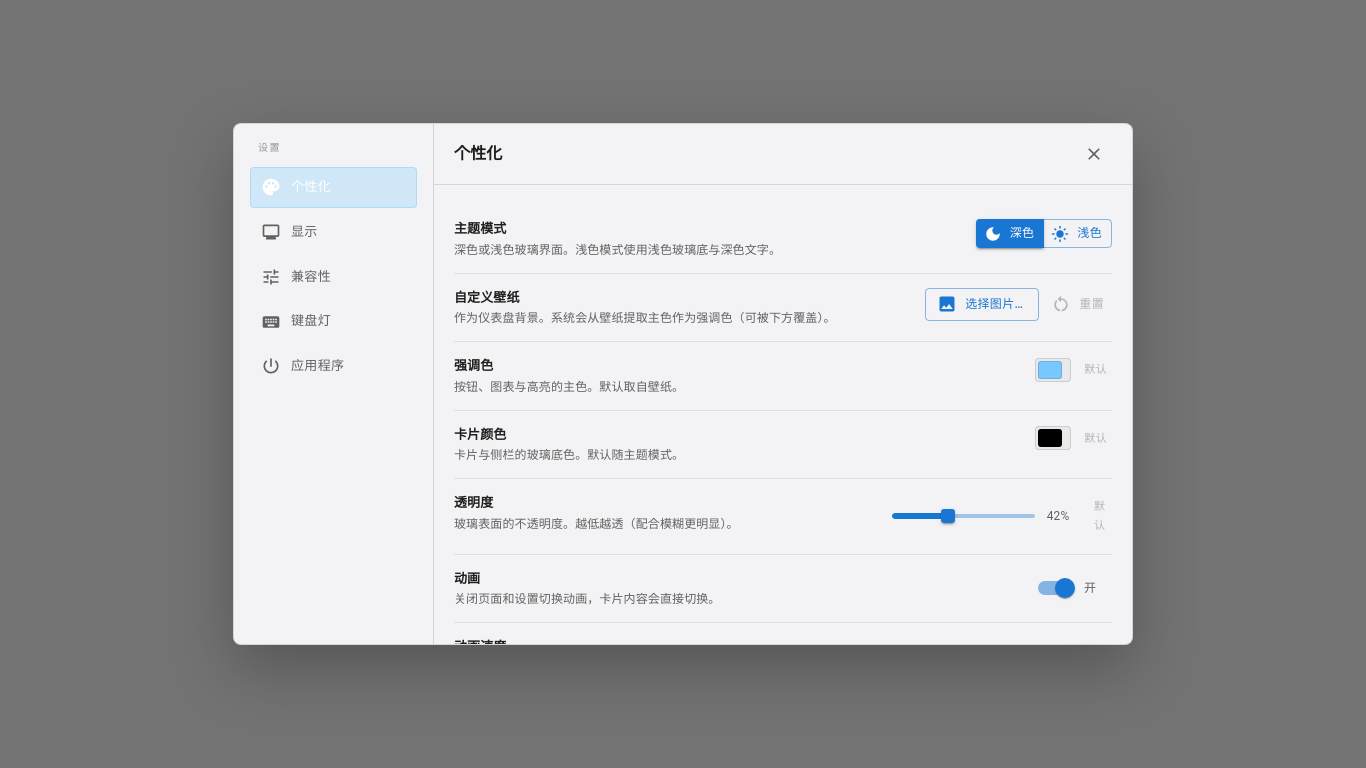
Test case: SettingsDialog › opens the keyboard section and reports an unavailable controller
The image size is (1366, 768).
Click the button "键盘灯".
click(334, 322)  # box [250,301,417,342]
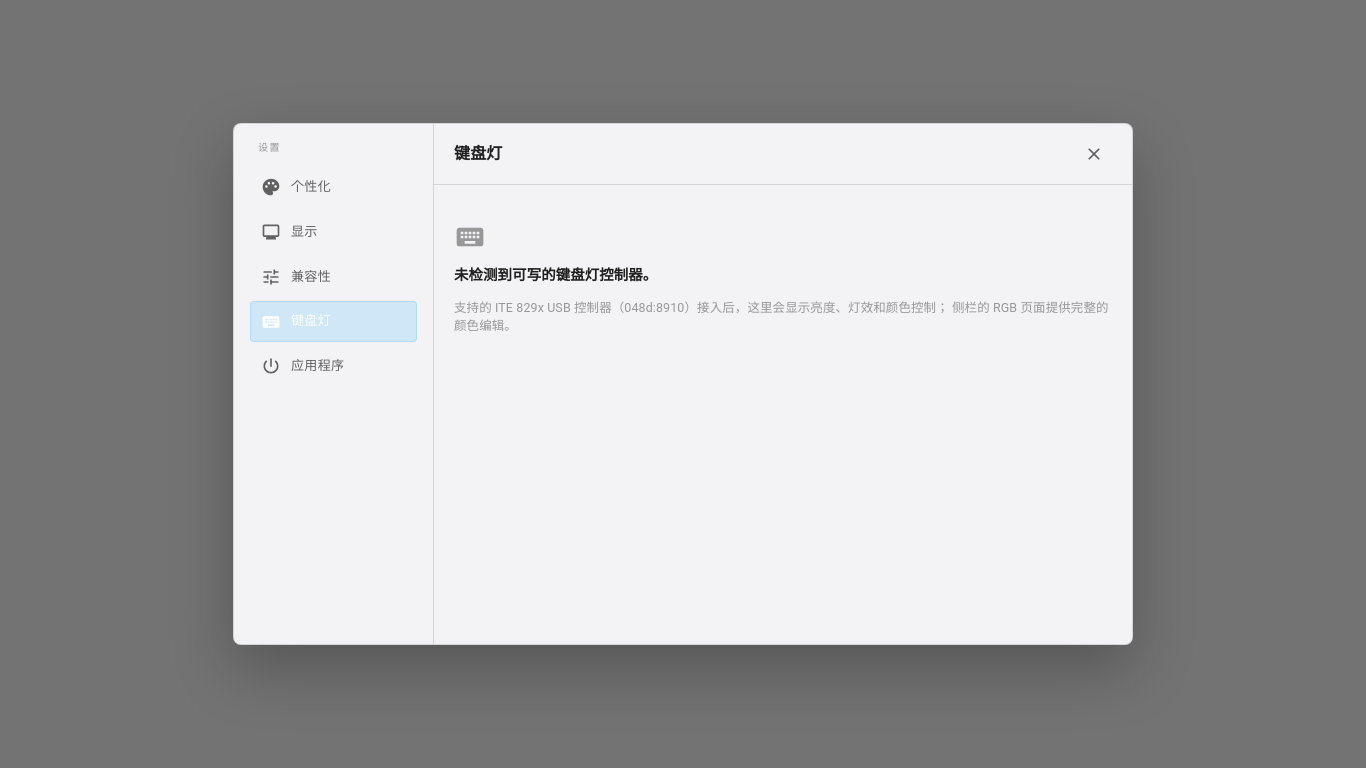
Expected: the text "未检测到可写的键盘灯控制器。" is shown, [454,267,657,284]
